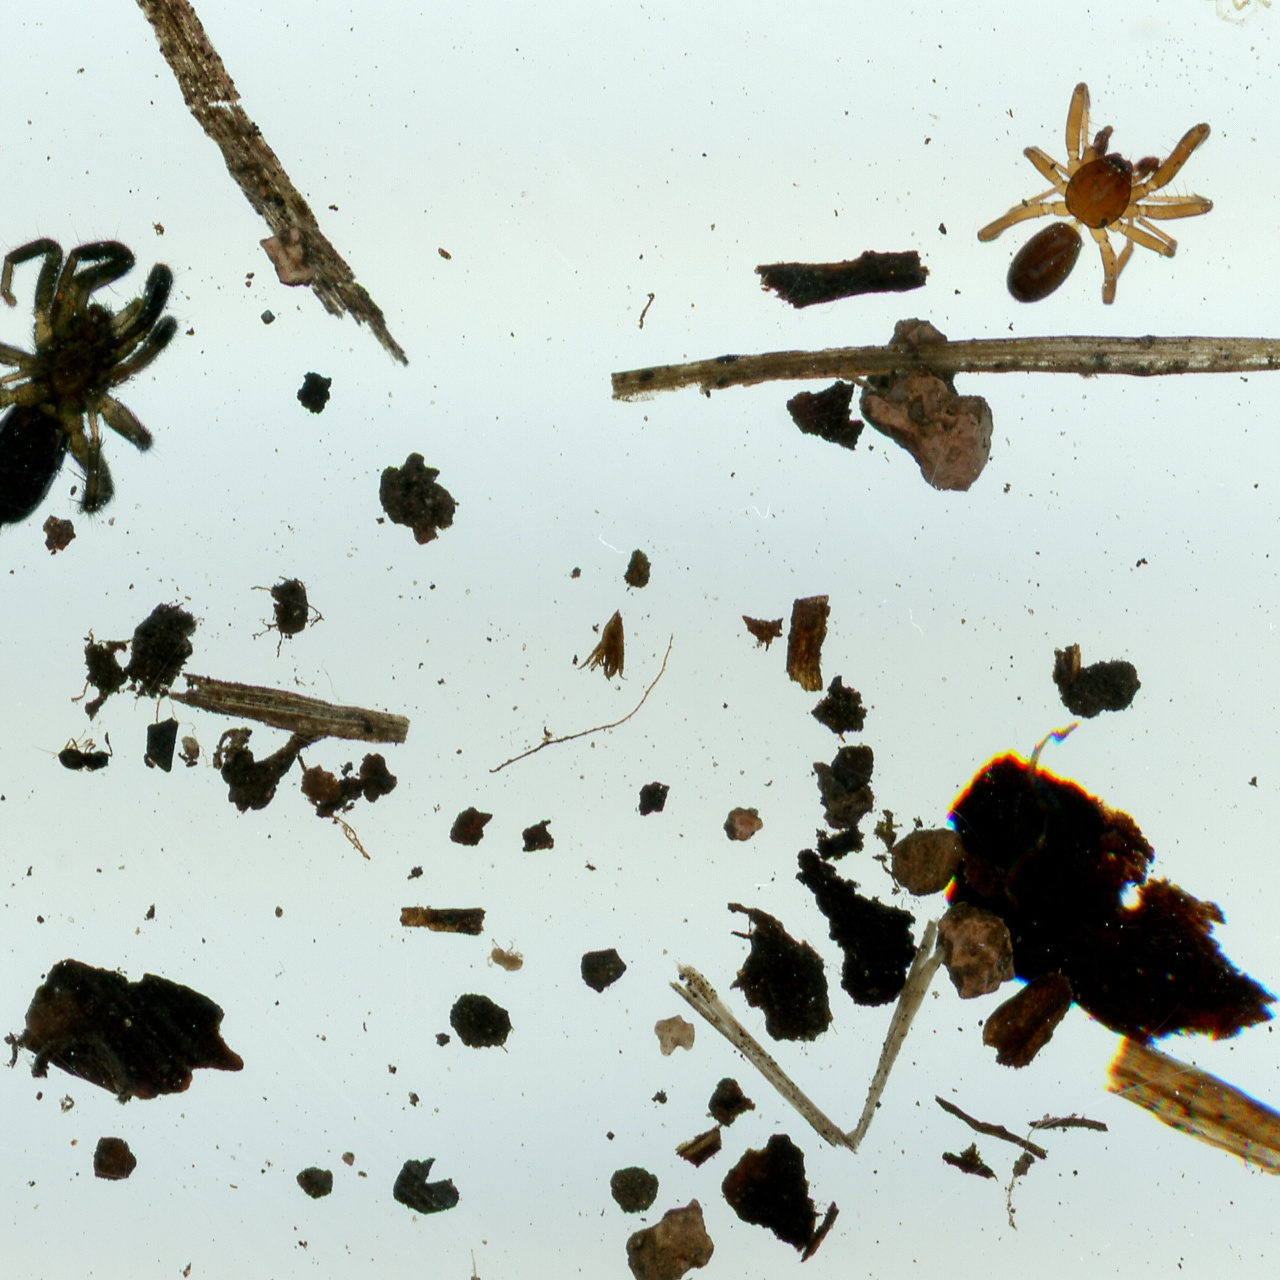arthropod: (0, 219, 191, 546), (971, 78, 1224, 310), (31, 729, 117, 778), (1176, 0, 1280, 35), (484, 934, 525, 975)
